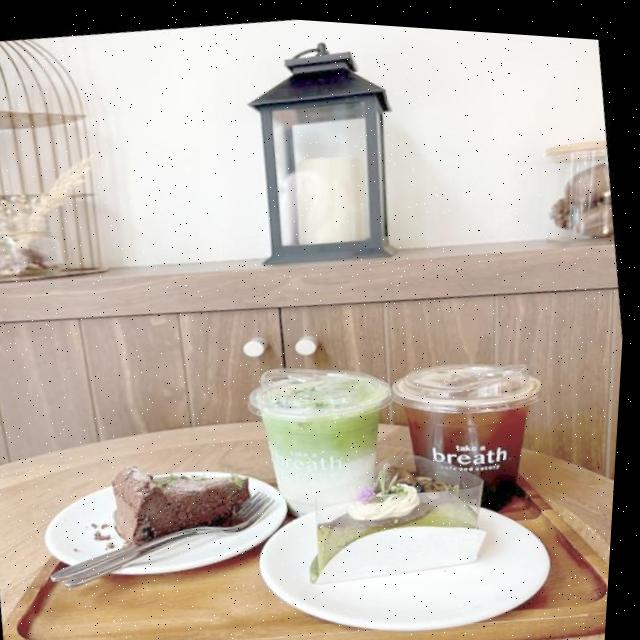cup: (392, 347, 559, 513), (242, 362, 406, 531)
